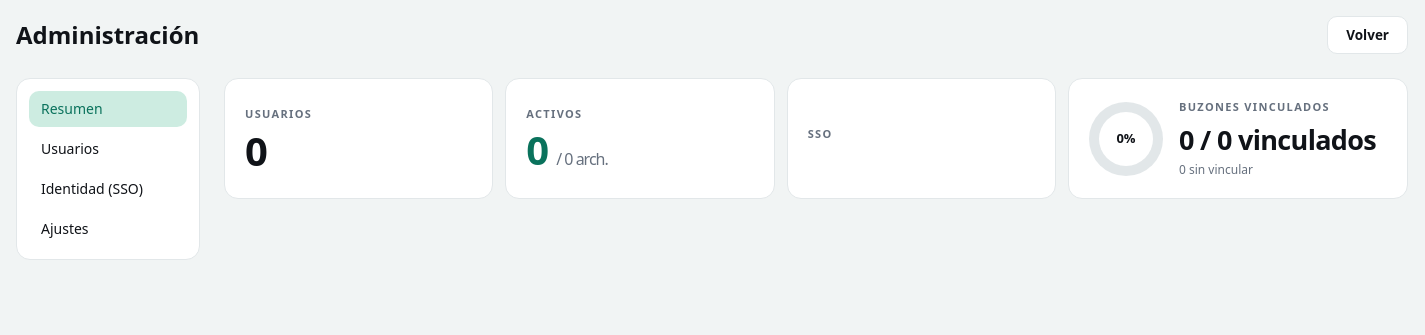
Scenario: AdminPage users table › shows the empty state when there are no users
Click the button "Usuarios" at (108, 149), box [29,131,187,167]
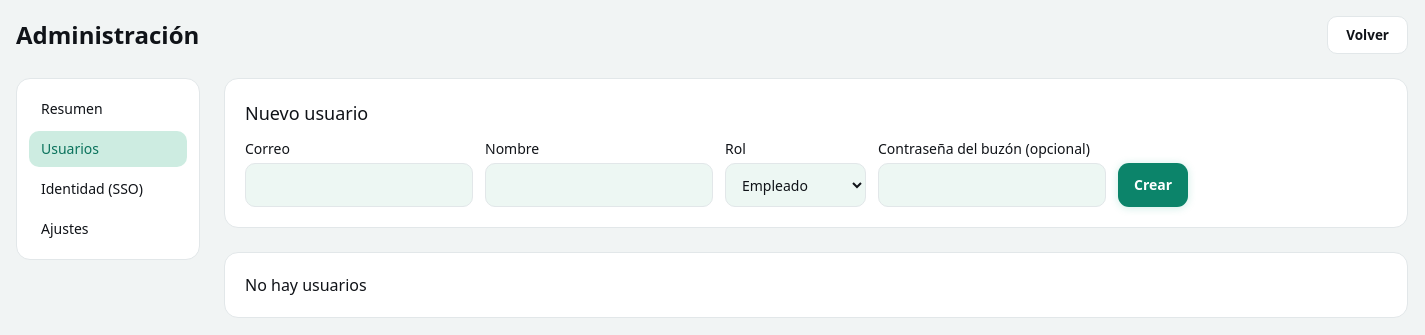
Now the text "No hay usuarios" is shown, box [245,274,367,296]
